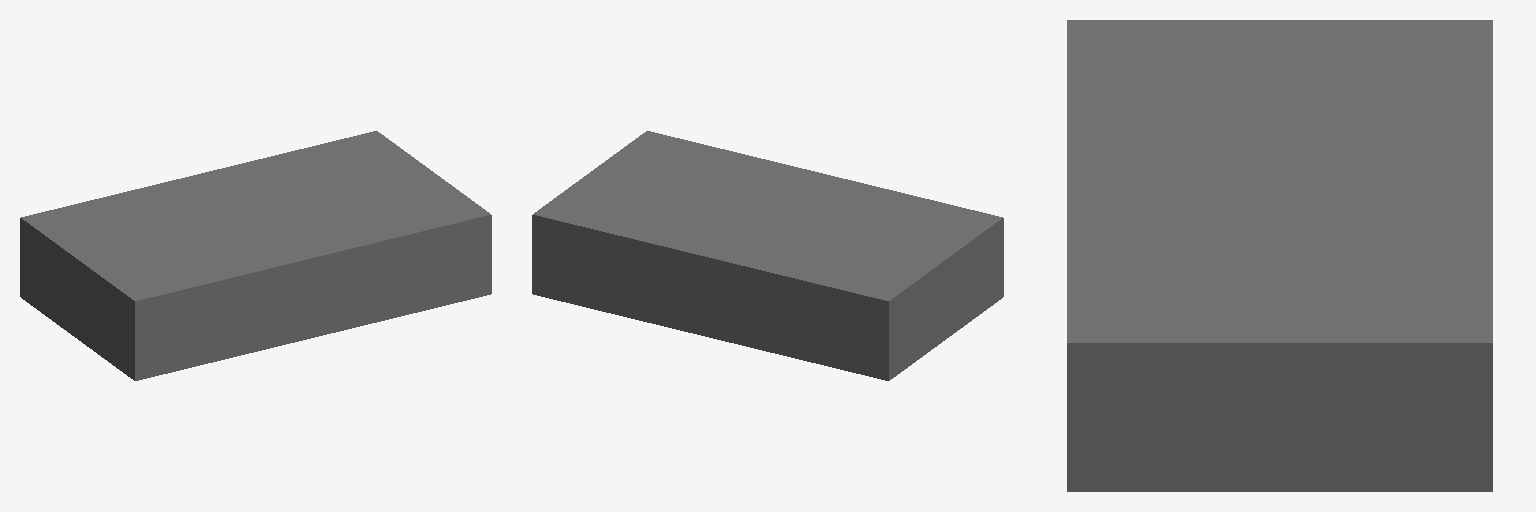
The robot description file, URDF, robot "turtlebot_with_box":
<?xml version="1.0"?>
<robot name="turtlebot_with_box">
  <!-- Base link of TurtleBot -->
  <link name="base_link">
    <visual>
      <geometry>
        <cylinder length="0.1" radius="0.15"/>
      </geometry>
      <material name="white">
        <color rgba="1.0 1.0 1.0 1.0"/>
      </material>
    </visual>
    <collision>
      <geometry>
        <cylinder length="0.1" radius="0.15"/>
      </geometry>
    </collision>
    <inertial>
      <mass value="1.0"/>
      <origin xyz="0 0 0"/>
      <inertia ixx="0.1" ixy="0.0" ixz="0.0" iyy="0.1" iyz="0.0" izz="0.1"/>
    </inertial>
  </link>

  <!-- Additional Box Link -->
  <link name="box_link">
    <visual>
      <geometry>
        <box size="1.4 0.78 0.3"/>
      </geometry>
      <material name="grey">
        <color rgba="0.5 0.5 0.5 1.0"/>
      </material>
    </visual>
    <collision>
      <geometry>
        <box size="1.4 0.78 0.3"/>
      </geometry>
    </collision>
    <inertial>
      <mass value="1.0"/>
      <origin xyz="0 0 0"/>
      <inertia ixx="0.1" ixy="0.0" ixz="0.0" iyy="0.1" iyz="0.0" izz="0.1"/>
    </inertial>
  </link>

  <!-- Joint to attach the box to the base link -->
  <joint name="box_joint" type="fixed">
    <parent link="base_link"/>
    <child link="box_link"/>
    <origin xyz="0 0 0.15" rpy="0 0 0"/>
  </joint>

  <!-- Example wheel links and joints (simplified for this example) -->
  <link name="left_wheel">
    <visual>
      <geometry>
        <cylinder length="0.05" radius="0.05"/>
      </geometry>
      <material name="black">
        <color rgba="0.0 0.0 0.0 1.0"/>
      </material>
    </visual>
  </link>

  <link name="right_wheel">
    <visual>
      <geometry>
        <cylinder length="0.05" radius="0.05"/>
      </geometry>
      <material name="black">
        <color rgba="0.0 0.0 0.0 1.0"/>
      </material>
    </visual>
  </link>

  <joint name="left_wheel_joint" type="continuous">
    <parent link="base_link"/>
    <child link="left_wheel"/>
    <origin xyz="-0.1 0.15 0" rpy="0 0 0"/>
    <axis xyz="0 1 0"/>
  </joint>

  <joint name="right_wheel_joint" type="continuous">
    <parent link="base_link"/>
    <child link="right_wheel"/>
    <origin xyz="-0.1 -0.15 0" rpy="0 0 0"/>
    <axis xyz="0 1 0"/>
  </joint>
</robot>

--- Facts derived from the render (not from the file) ---
3 views of the same robot in one strip: view 1: azimuth 30°, elevation 25°; view 2: azimuth 150°, elevation 25°; view 3: azimuth 270°, elevation 25° (orthographic).
Robot: turtlebot_with_box — 4 links, 3 joints (2 continuous, 1 fixed); root link base_link; default pose: all joints at 0.
Links seen in each view (by area): view 1: box_link; view 2: box_link; view 3: box_link.
Boxes of the visible links, <box> form: box_link: <box>20,131,491,380</box>; box_link: <box>532,131,1003,380</box>; box_link: <box>1067,20,1492,491</box>.
Bounding box of the posed robot: 1.4 × 0.78 × 0.35 m (x, y, z).
Geometry: primitives only (box / cylinder / sphere), no mesh files.
